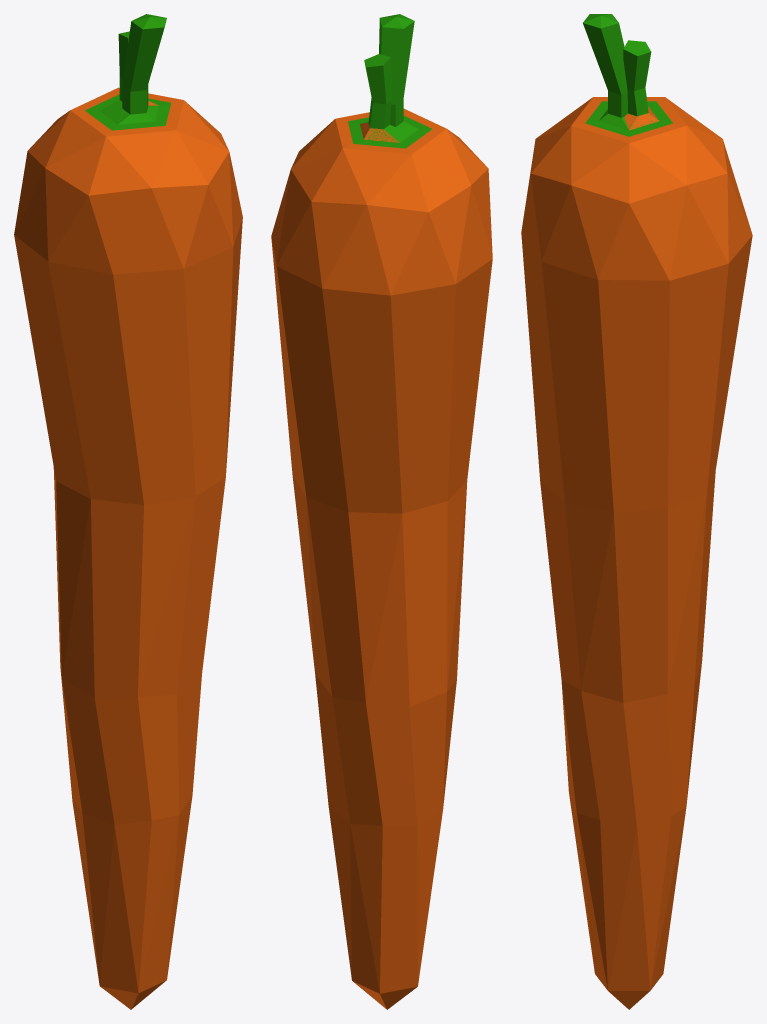
File: carrot.fbx
3 views of the same model, side by side, from view 1: azimuth 30°, elevation 25°; view 2: azimuth 150°, elevation 25°; view 3: azimuth 270°, elevation 25° (orthographic). The views are drawn at different scales.
Parts seen in each view (by area): view 1: Icosphere; view 2: Icosphere; view 3: Icosphere.
Boxes of the visible parts, x1,y1,x2,y2 form: Icosphere: [14, 14, 242, 1009]; Icosphere: [271, 14, 492, 1009]; Icosphere: [521, 14, 752, 1009].
Size of the model in its own units: 269 by 1332 by 280.
